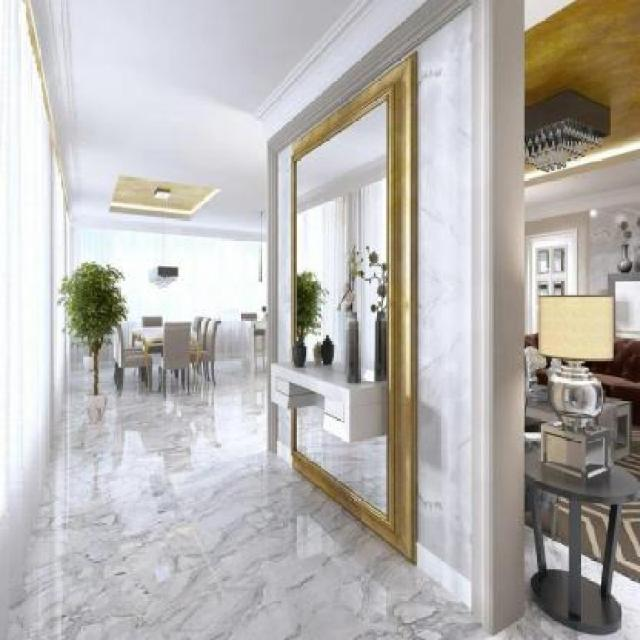Floor: (7, 358, 639, 639)
